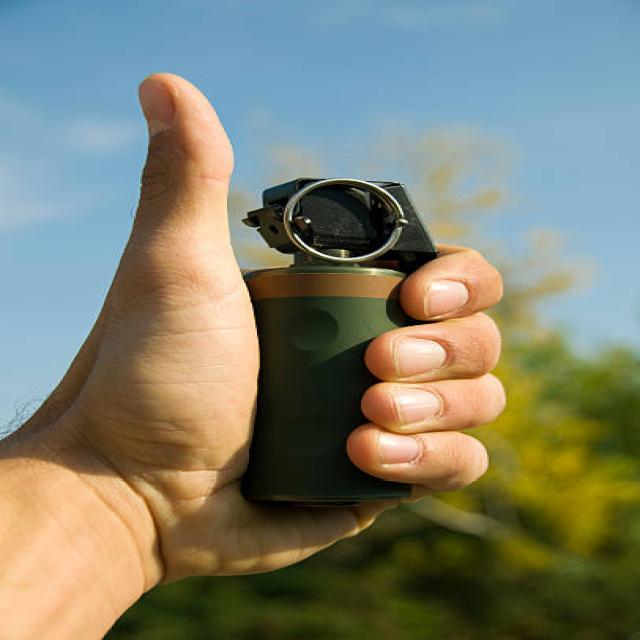grenade: (231, 173, 443, 504)
